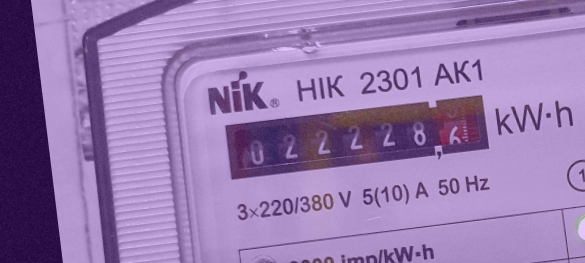0: (246, 136, 265, 166)
2: (278, 129, 300, 161), (377, 118, 398, 149), (312, 126, 332, 156), (344, 122, 364, 151)
5: (442, 99, 459, 120)
6: (444, 122, 463, 144)
8: (409, 117, 427, 147)
screen: (215, 81, 499, 189)
